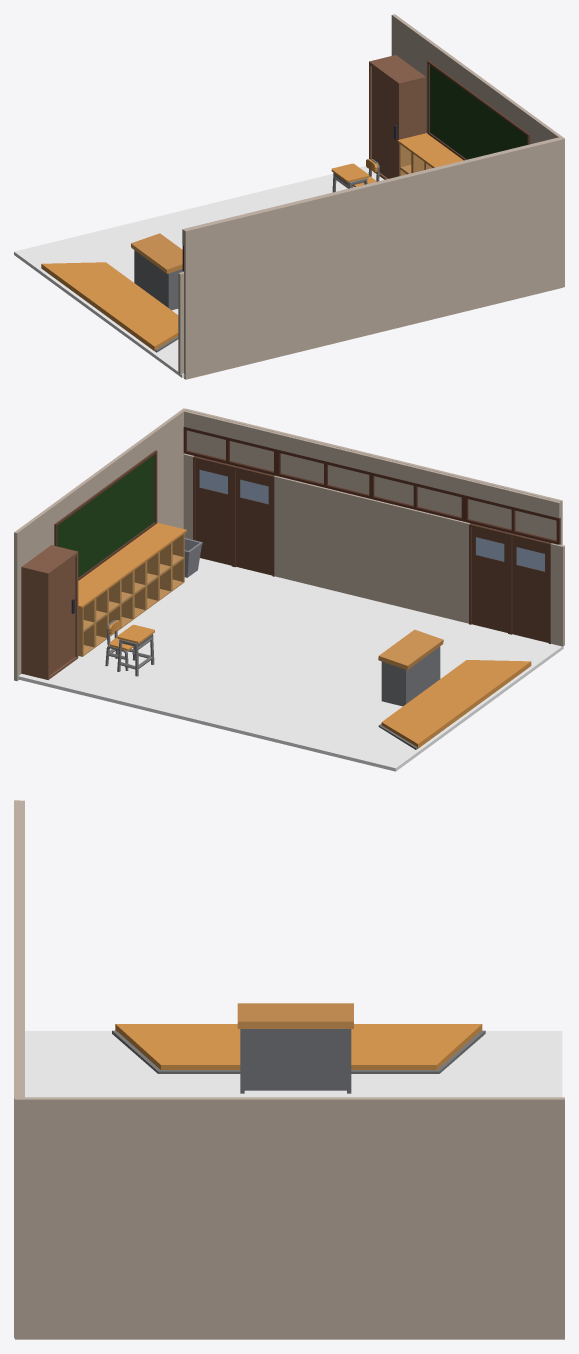
Rendered from classroom.glb.
3 views of the same model, one above another, from view 1: azimuth 30°, elevation 25°; view 2: azimuth 150°, elevation 25°; view 3: azimuth 270°, elevation 25° (orthographic). The views are drawn at different scales.
Visible parts, largest first — view 1: wall2.001, floor, elevated floor brown, closet, blackboard green back, wall.001, desk gray, desk brown, cubby top, chairs, chalkboard brown.001, wall2.006 (+2 smaller); view 2: floor, wall2.003, wall2.001, wall.001, closet, wall2.006, blackboard green back, elevated floor brown, cubby, door.005, door.001, door (+15 smaller); view 3: wall.001, floor, elevated floor brown, desk gray, desk brown, wall2.001, wall2.006, Object.
Part boxes in pixels (<box>): wall2.001: <box>184,138,563,379</box>; floor: <box>14,166,384,377</box>; elevated floor brown: <box>41,262,178,351</box>; closet: <box>369,55,425,179</box>; blackboard green back: <box>430,65,526,159</box>; wall.001: <box>391,14,564,287</box>; desk gray: <box>134,250,183,310</box>; desk brown: <box>131,233,182,273</box>; cubby top: <box>397,133,463,167</box>; chairs: <box>331,159,379,192</box>; chalkboard brown.001: <box>427,60,530,160</box>; wall2.006: <box>182,137,559,245</box>; floor: <box>18,558,563,771</box>; wall2.003: <box>274,475,470,623</box>; wall2.001: <box>184,408,562,544</box>; wall.001: <box>14,408,185,680</box>; closet: <box>21,545,78,679</box>; wall2.006: <box>184,410,560,518</box>; blackboard green back: <box>54,455,154,577</box>; elevated floor brown: <box>381,660,531,748</box>; cubby: <box>78,533,184,656</box>; door.005: <box>233,466,274,576</box>; door.001: <box>509,533,551,643</box>; door: <box>469,523,510,634</box>; wall.001: <box>15,1097,564,1339</box>; floor: <box>25,1031,562,1097</box>; elevated floor brown: <box>115,1024,482,1069</box>; desk gray: <box>240,1029,351,1093</box>; desk brown: <box>237,1003,353,1028</box>; wall2.001: <box>14,800,19,1338</box>; wall2.006: <box>20,800,24,1097</box>; Object: <box>112,1030,485,1073</box>.
Bounding box in the file's own units: 27.83 × 10.29 × 21.42.
